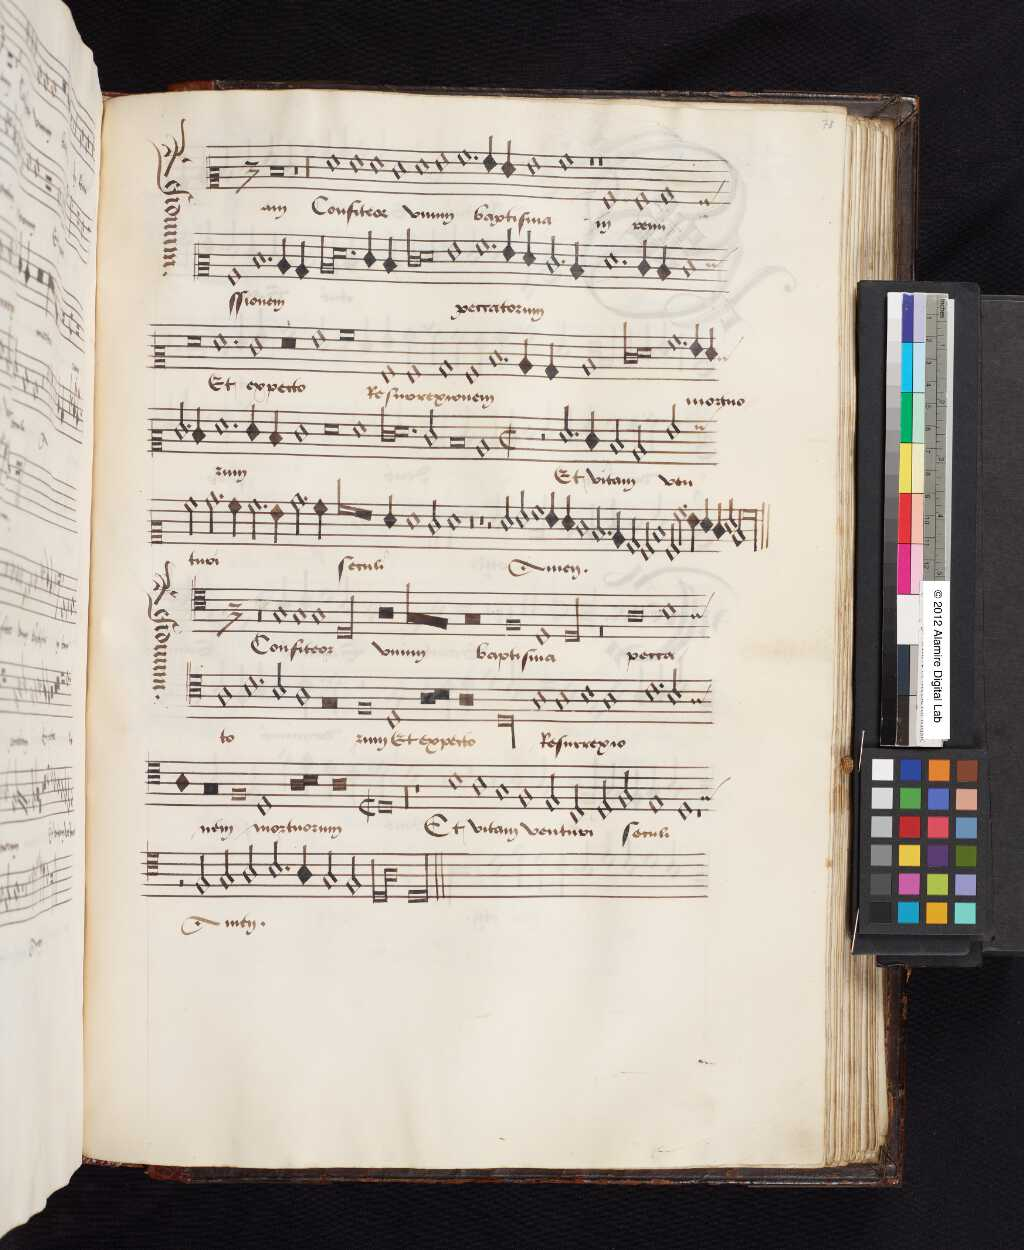Imincut: (352, 778, 381, 832)
breve_11: (374, 789, 396, 822)
breve_9: (226, 776, 252, 810)
c clef_5: (142, 743, 167, 803)
colored breve_7: (330, 767, 351, 800)
colored breve_8: (197, 775, 223, 801)
colored semibreve_7: (169, 760, 194, 799)
custos_9: (700, 779, 724, 805)
l1colored breve_7: (287, 772, 305, 795)
l2colored breve_6: (304, 769, 322, 788)
longa rest: (397, 762, 412, 823)
minim_10: (543, 761, 562, 817)
minim_11: (593, 768, 614, 824)
minim_12: (567, 775, 585, 828)
minim_9: (617, 759, 636, 814)
semibreve rest: (410, 759, 425, 819), (694, 770, 702, 827)
semibreve_10: (644, 782, 668, 822)
semibreve_11: (252, 784, 277, 823), (673, 790, 696, 830)
semibreve_6: (443, 766, 466, 798)
semibreve_7: (468, 763, 490, 806)
semibreve_8: (492, 772, 512, 809)
semibreve_9: (515, 775, 537, 817)
